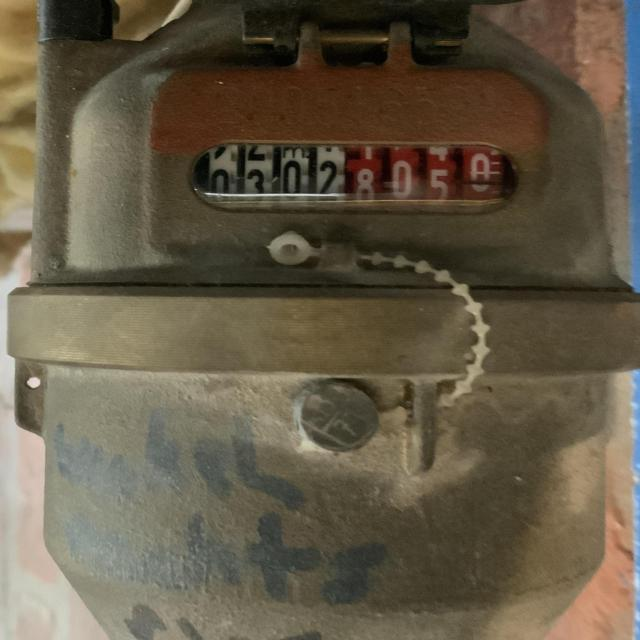gaz_meter: (30, 29, 614, 291)
indication: (204, 142, 501, 206)
